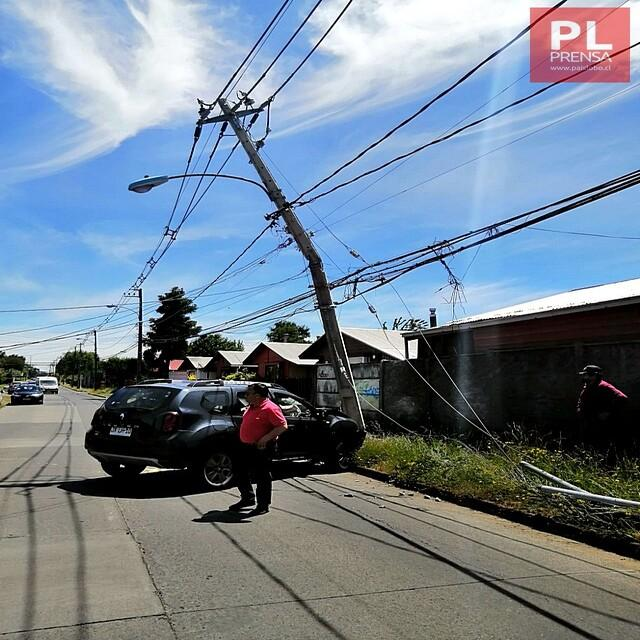Inclined Pole: (122, 93, 367, 432)
